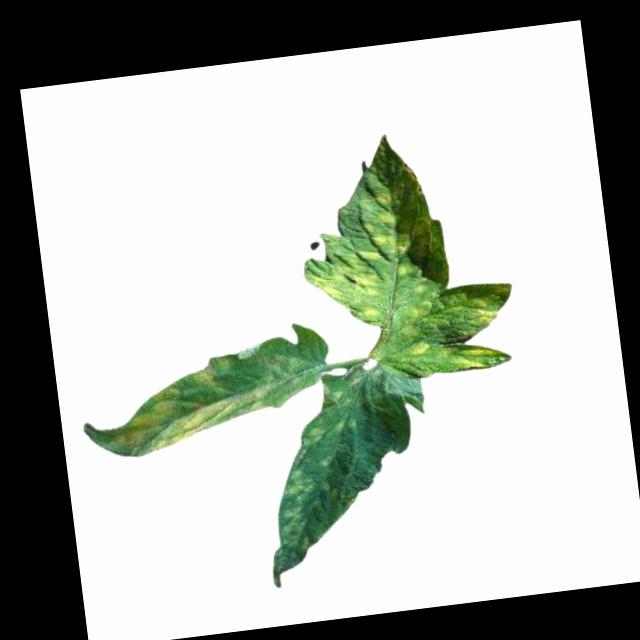Leaf_Mold: (289, 119, 517, 351), (103, 350, 278, 460), (271, 462, 327, 555), (439, 340, 498, 374)
